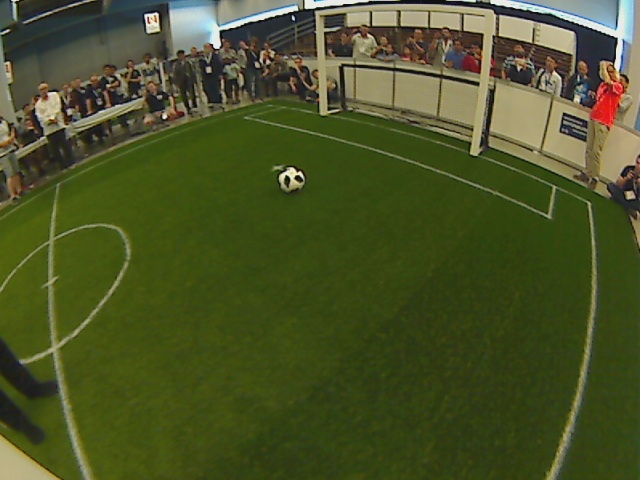ball: (274, 165, 306, 194)
